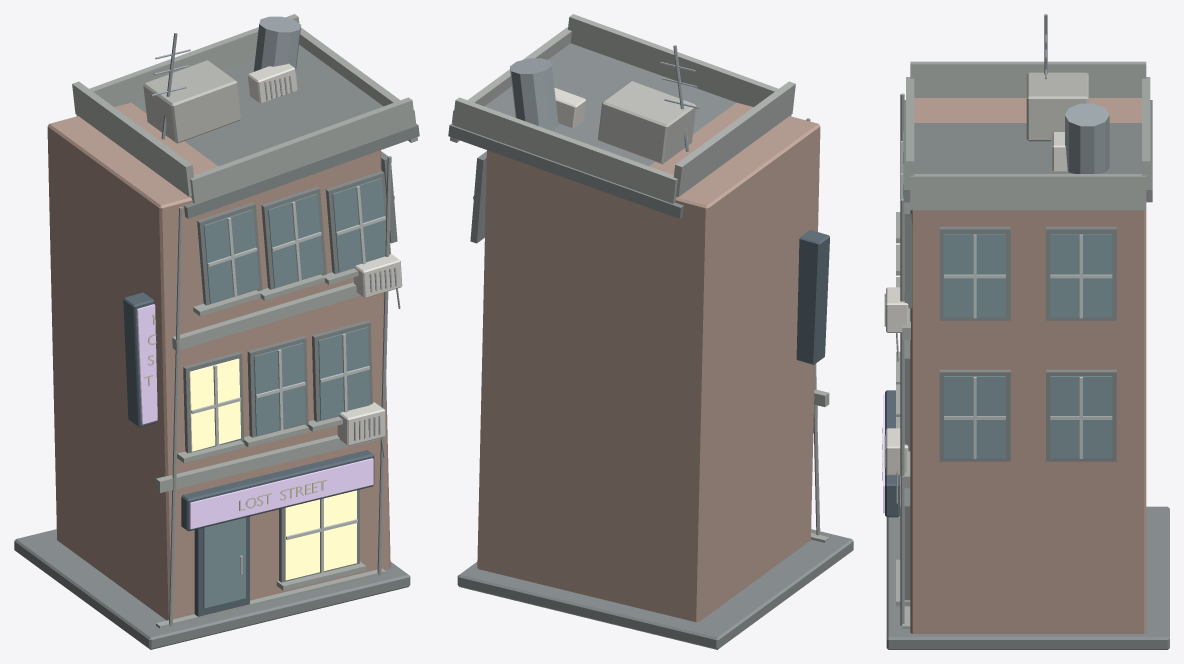
Rendered from SM_ENV_Building_17_TwistedShop.glb.
3 renders of one model, left to right at view 1: azimuth 30°, elevation 25°; view 2: azimuth 150°, elevation 25°; view 3: azimuth 270°, elevation 25°, orthographic. The views are drawn at different scales.
Visible parts, largest first — view 1: SM_ENV_Building_17_TwistedShop; view 2: SM_ENV_Building_17_TwistedShop; view 3: SM_ENV_Building_17_TwistedShop.
Boxes of the visible parts, x1,y1,x2,y2 form: SM_ENV_Building_17_TwistedShop: (14,14,419,649); SM_ENV_Building_17_TwistedShop: (448,14,853,649); SM_ENV_Building_17_TwistedShop: (882,14,1169,649).
Bounding box in the file's own units: 5.67 × 10.45 × 4.88.
